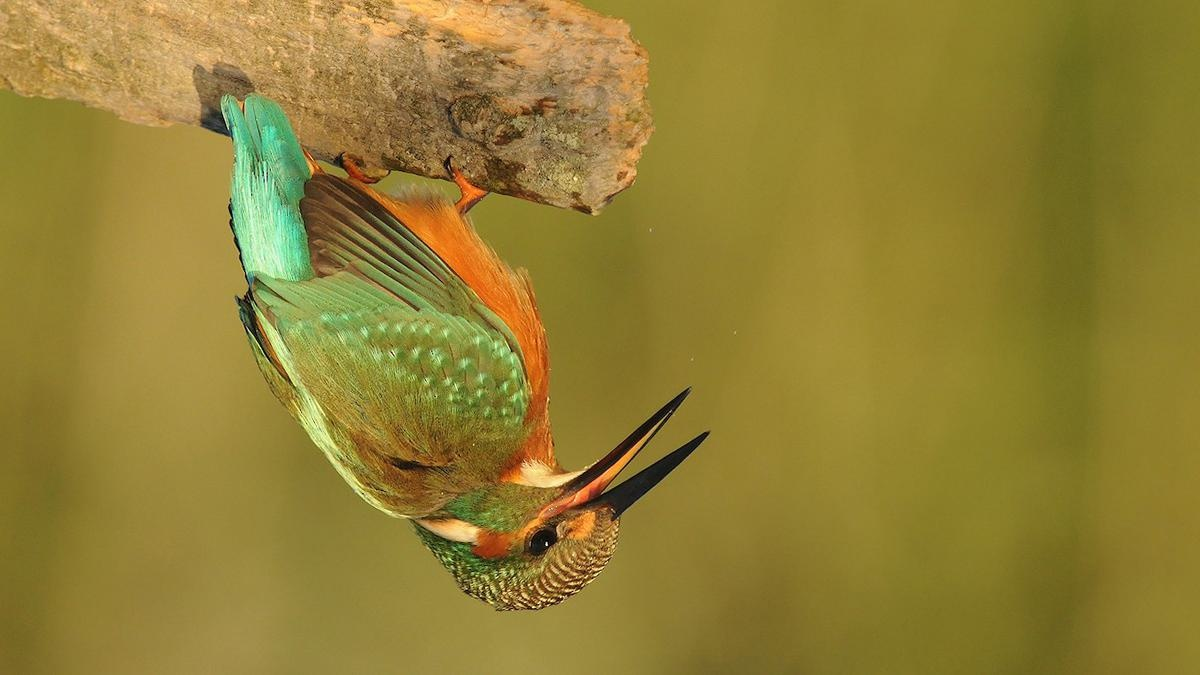kingfisher: (193, 84, 712, 620)
